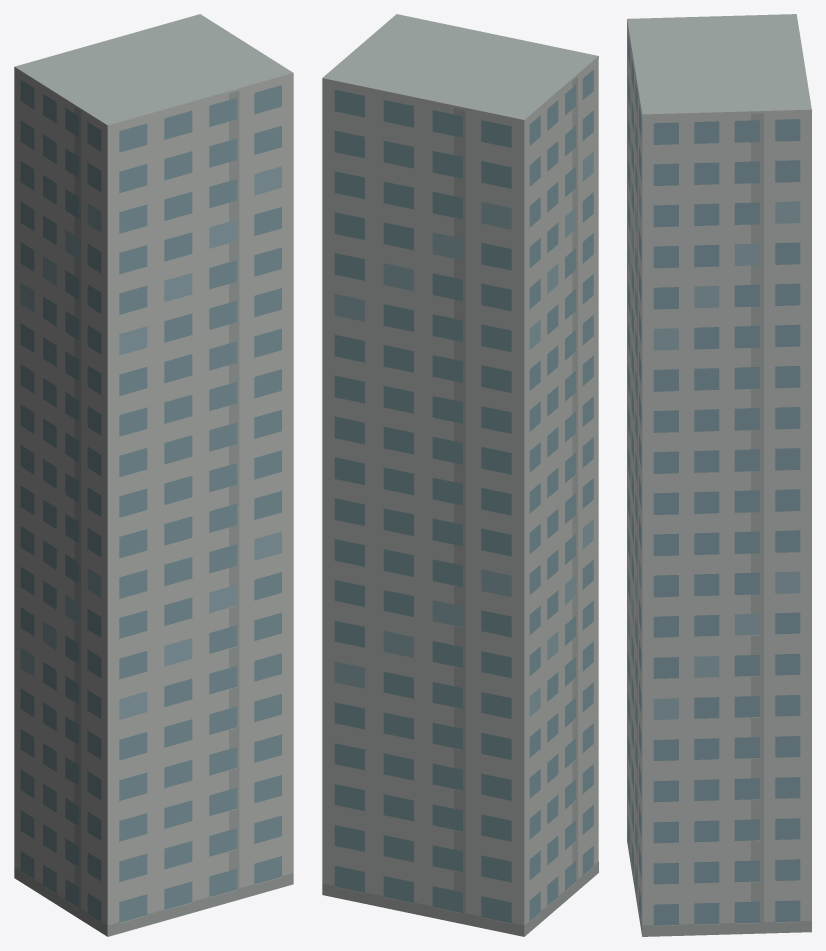
Rendered from residential-4487a42a-ba45-48e7-87c6-a7a40b6308c7.glb.
3 renders of one model, left to right at view 1: azimuth 30°, elevation 25°; view 2: azimuth 150°, elevation 25°; view 3: azimuth 270°, elevation 25°, orthographic.
Parts seen in each view (by area): view 1: residential-4487a42a-ba45-48e7-87c6-a7a40b6308c7.tmp; view 2: residential-4487a42a-ba45-48e7-87c6-a7a40b6308c7.tmp; view 3: residential-4487a42a-ba45-48e7-87c6-a7a40b6308c7.tmp.
Part boxes in pixels (x1,y1,x2,y2): residential-4487a42a-ba45-48e7-87c6-a7a40b6308c7.tmp: (14,14,293,936); residential-4487a42a-ba45-48e7-87c6-a7a40b6308c7.tmp: (322,14,598,936); residential-4487a42a-ba45-48e7-87c6-a7a40b6308c7.tmp: (627,14,811,936).
Bounding box in the file's own units: 22.01 × 84 × 17.11.
